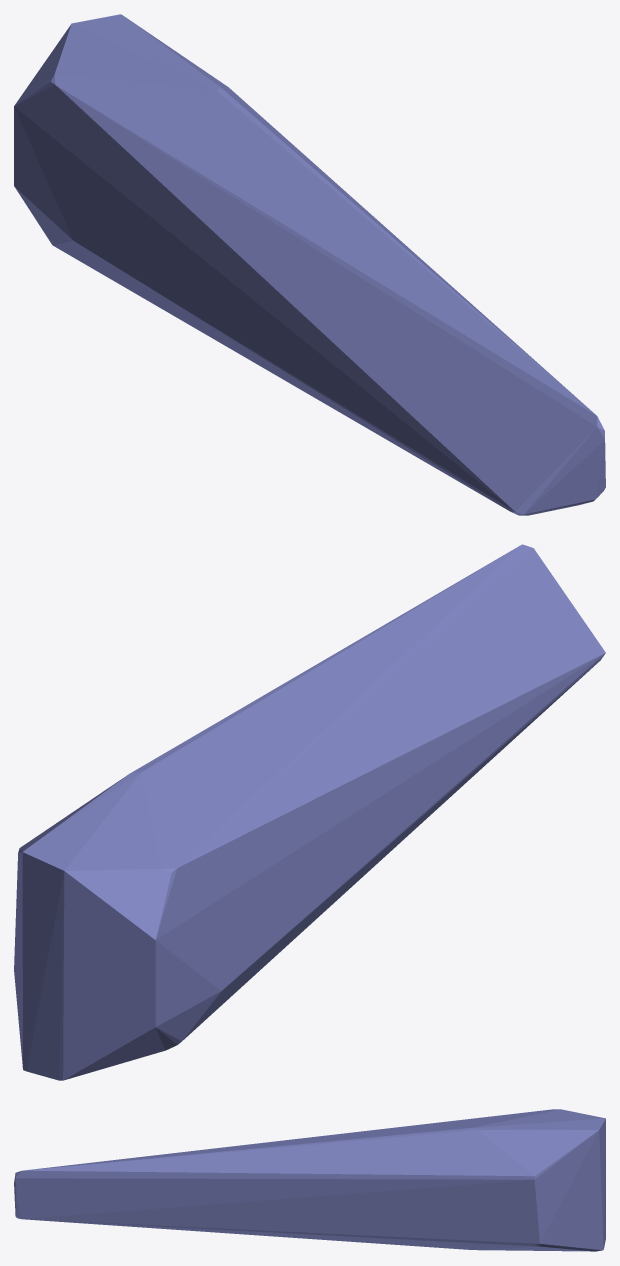
The model's file is Xray_machine_buckyStand_a01.glb.
The picture shows the model from 3 angles, top to bottom: view 1: azimuth 30°, elevation 25°; view 2: azimuth 150°, elevation 25°; view 3: azimuth 270°, elevation 25°; orthographic projection. The views are drawn at different scales.
Visible parts, largest first — view 1: geometry_0; view 2: geometry_0; view 3: geometry_0.
Part boxes in pixels (<box>): geometry_0: <box>14,14,605,515</box>; geometry_0: <box>14,544,605,1080</box>; geometry_0: <box>14,1109,605,1251</box>.
Bounding box in the file's own units: 0.0991 × 0.1087 × 0.4798.
